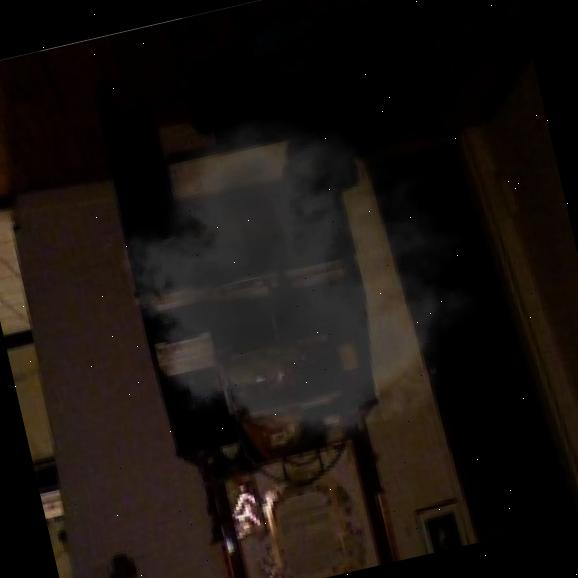smoke: (81, 79, 505, 495)
